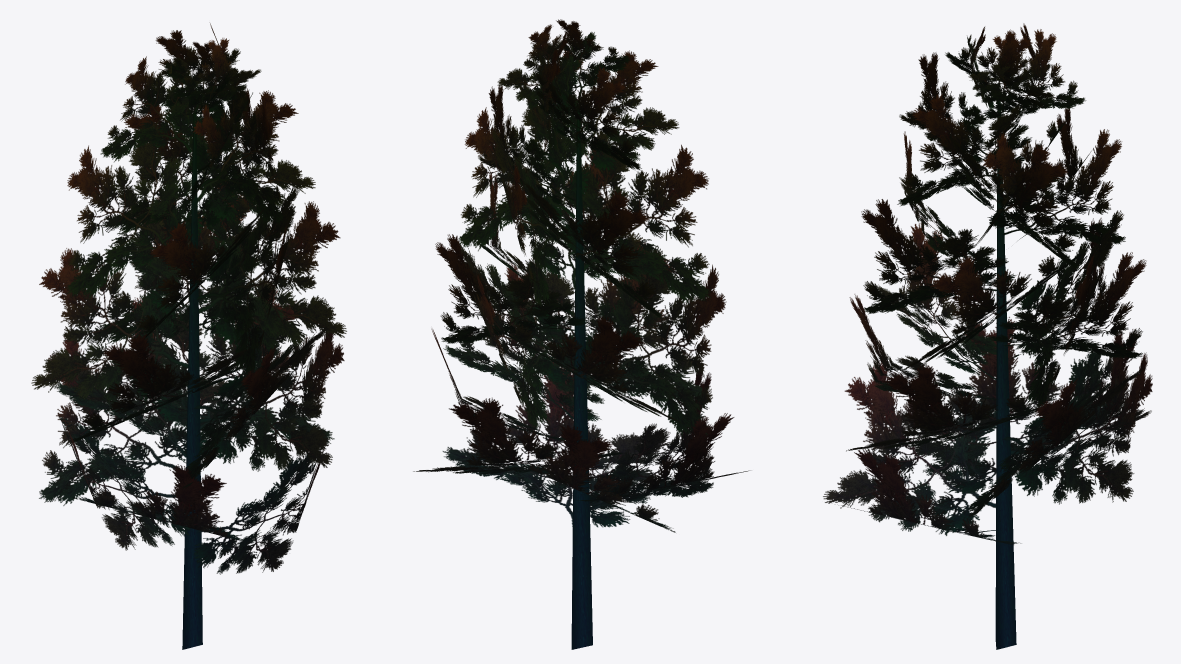
File: Scoth_Pine_F.glb
3 renders of one model, left to right at view 1: azimuth 30°, elevation 25°; view 2: azimuth 150°, elevation 25°; view 3: azimuth 270°, elevation 25°, orthographic. The views are drawn at different scales.
Visible parts, largest first — view 1: G_LOD0; view 2: G_LOD0; view 3: G_LOD0.
Part boxes in pixels (x1,y1,x2,y2): G_LOD0: (31,23,346,649); G_LOD0: (413,19,750,649); G_LOD0: (823,23,1152,649).
Size of what is drawn, in the model's own units: 0.8673 by 1.77 by 0.9232.
2 materials, 2 textured.
